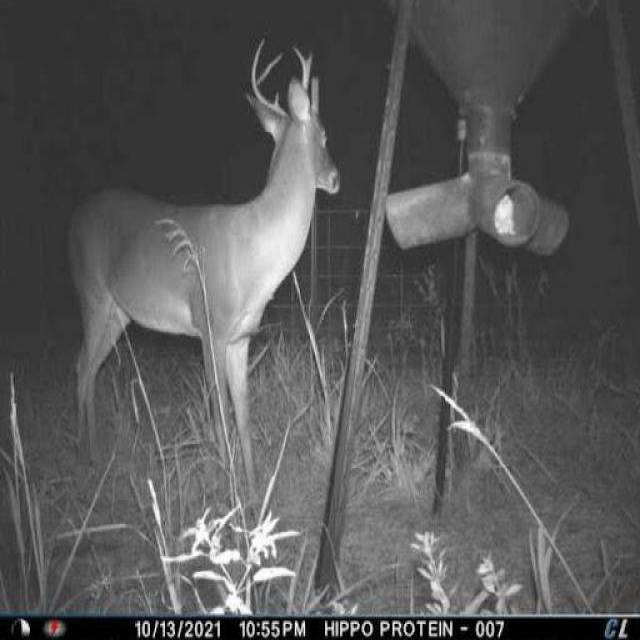deer: (52, 31, 348, 530)
